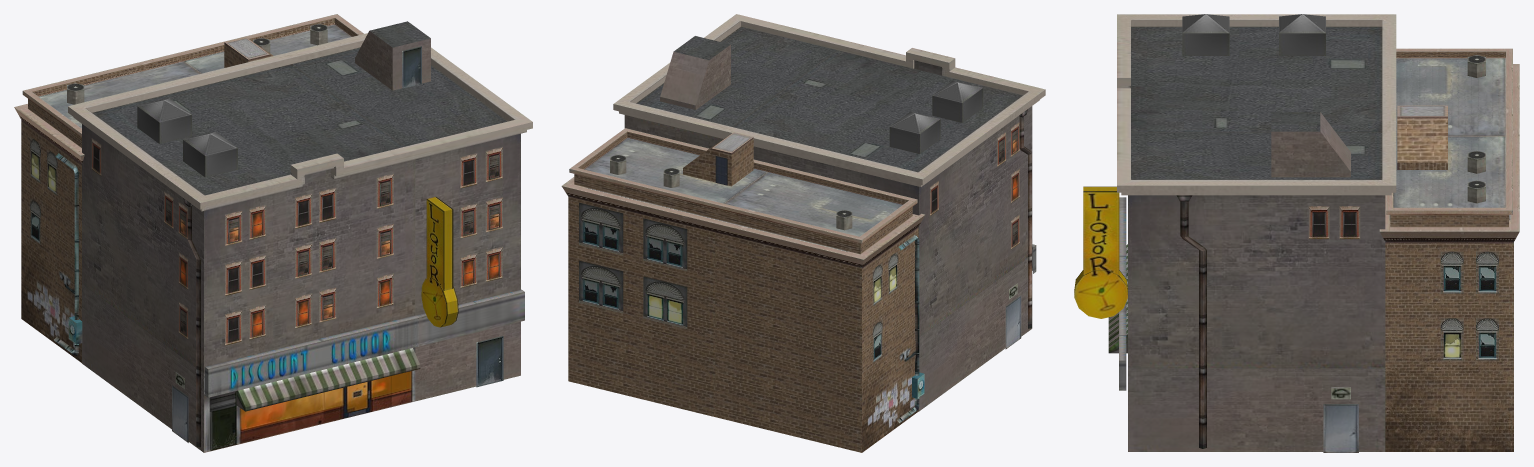
Rendered from LM_Liquor.glb.
3 renders of one model, left to right at view 1: azimuth 30°, elevation 25°; view 2: azimuth 150°, elevation 25°; view 3: azimuth 270°, elevation 25°, orthographic. The views are drawn at different scales.
Visible parts, largest first — view 1: Model__FillerBuildings1; view 2: Model__FillerBuildings1; view 3: Model__FillerBuildings1.
Part boxes in pixels (bbox=[...]): Model__FillerBuildings1: bbox=[14, 14, 532, 452]; Model__FillerBuildings1: bbox=[561, 14, 1045, 452]; Model__FillerBuildings1: bbox=[1074, 14, 1519, 452].
Bounding box in the file's own units: 8.01 × 6.74 × 8.8.
Materials: 1 (1 with a texture image).
